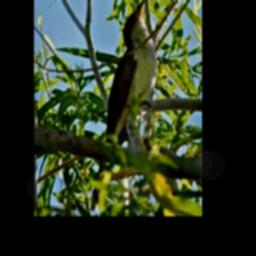Cuckoo: (90, 1, 157, 211)
